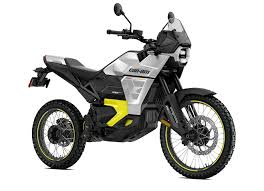motorcycle: (25, 1, 236, 180)
